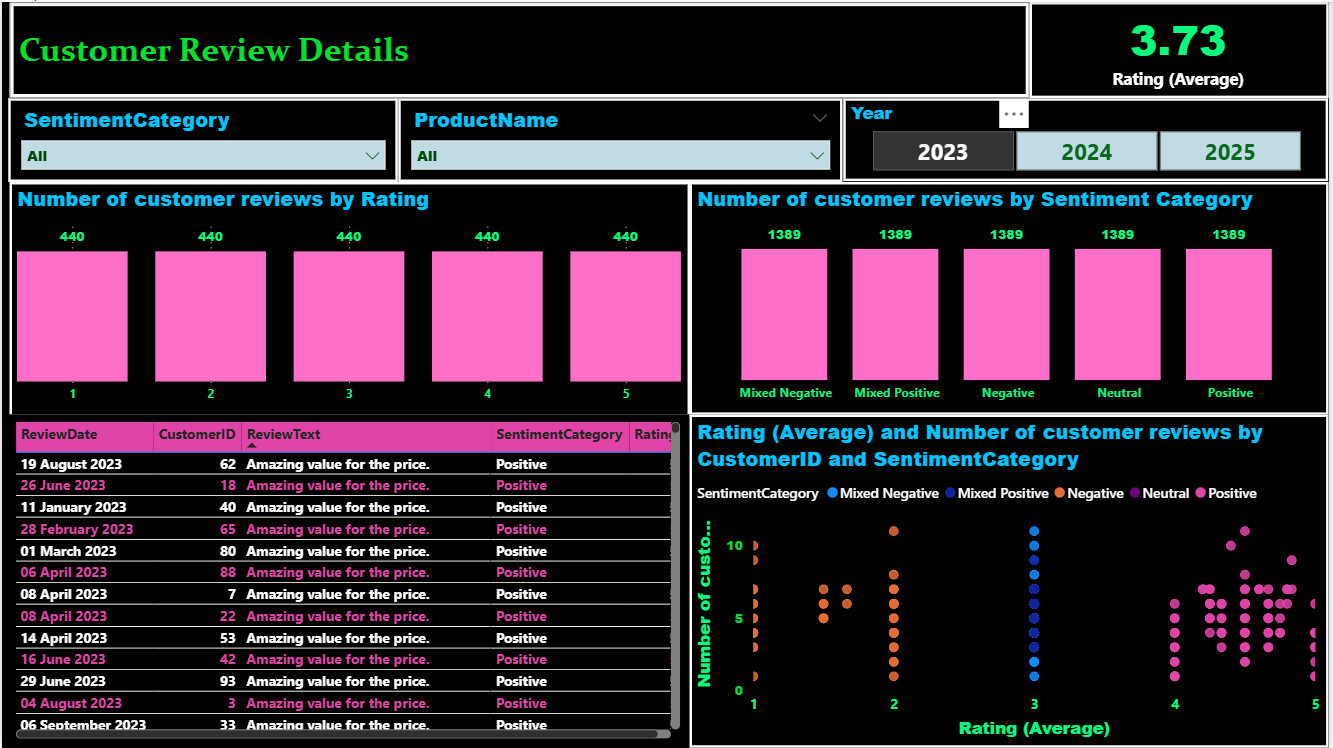

The dashboard page shown, as its layout file describes it:
{"tool":"powerbi","page":{"name":"Customer Review Details","canvas":[1280,720],"ordinal":1},"visuals":[{"type":"slicer","fields":{"Values":["fact_customer_reviews_with_sentiment.SentimentCategory"]},"box":[5.6,93.1,376.4,80.6],"z":0},{"type":"slicer","fields":{"Values":["dim_products.ProductName"]},"box":[381.9,93.1,429.2,80.6],"z":1000},{"type":"clusteredColumnChart","title":"Number of customer reviews by Sentiment Category","fields":{"Category":["fact_customer_reviews_with_sentiment.SentimentCategory"],"Y":["Calculations.Number of customers journey"]},"box":[663.9,173.6,616.7,225],"z":2000},{"type":"clusteredColumnChart","fields":{"Category":["fact_customer_reviews_with_sentiment.Rating"],"Y":["Calculations.Number of customer reviews"]},"box":[6.9,173.6,656.9,226.4],"z":3000},{"type":"tableEx","fields":{"Values":["fact_customer_reviews_with_sentiment.ReviewDate","fact_customer_reviews_with_sentiment.CustomerID","fact_customer_reviews_with_sentiment.ReviewText","fact_customer_reviews_with_sentiment.SentimentCategory","fact_customer_reviews_with_sentiment.Rating"]},"box":[5,398.3,658.3,321.7],"z":4000},{"type":"scatterChart","fields":{"X":["Calculations.Rating (Average)"],"Y":["Calculations.Number of customer reviews"],"Category":["dim_customers.CustomerID"],"Series":["fact_customer_reviews_with_sentiment.SentimentCategory"]},"box":[663.3,398.3,616.7,321.7],"z":5000},{"type":"slicer","title":"Year","fields":{"Values":["Calendar.Year"]},"box":[811.7,93.3,468.3,80],"z":6000},{"type":"card","fields":{"Values":["Calculations.Rating (Average)"]},"box":[991.7,0,288.9,93.1],"z":7000},{"type":"textbox","box":[6.9,0,984.7,93.1],"z":8000}]}

Visuals, with their boxes in screenshot pixels (x1, y1, x2, y2), scaled from the page's 1280x720 canvas onto the 1333x748 screenshot:
slicer - fact_customer_reviews_with_sentiment.SentimentCategory: Rect(6, 97, 398, 180)
slicer - dim_products.ProductName: Rect(398, 97, 845, 180)
"Number of customer reviews by Sentiment Category" clusteredColumnChart: Rect(691, 180, 1332, 414)
clusteredColumnChart - fact_customer_reviews_with_sentiment.Rating x Calculations.Number of customer reviews: Rect(7, 180, 691, 416)
tableEx - fact_customer_reviews_with_sentiment.ReviewDate x fact_customer_reviews_with_sentiment.CustomerID: Rect(5, 414, 691, 747)
scatterChart - Calculations.Rating (Average) x Calculations.Number of customer reviews: Rect(691, 414, 1332, 747)
"Year" slicer: Rect(845, 97, 1332, 180)
card - Calculations.Rating (Average): Rect(1033, 0, 1332, 97)
textbox: Rect(7, 0, 1033, 97)
